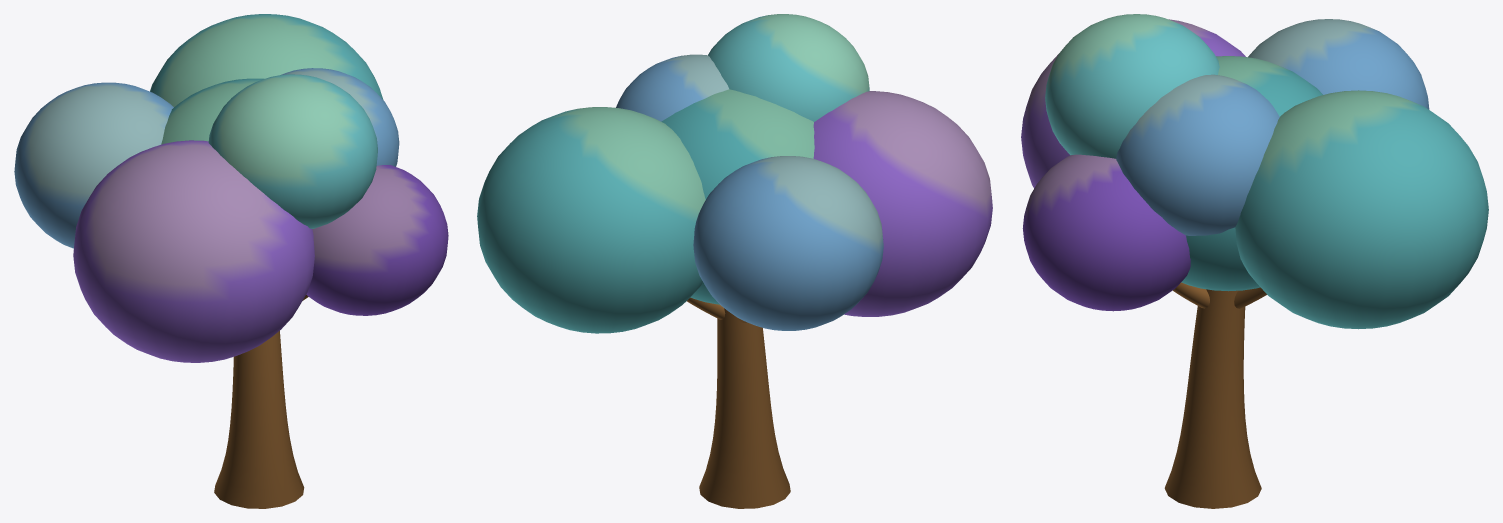
The model's file is tree-108.obj.
3 renders of one model, left to right at view 1: azimuth 30°, elevation 25°; view 2: azimuth 150°, elevation 25°; view 3: azimuth 270°, elevation 25°, orthographic. The views are drawn at different scales.
Visible parts, largest first — view 1: tree; view 2: tree; view 3: tree.
Boxes of the visible parts, x1=… form: tree: x1=14, y1=14, x2=448, y2=508; tree: x1=477, y1=14, x2=992, y2=508; tree: x1=1021, y1=14, x2=1488, y2=508.
Bounding box in the file's own units: 320 × 350 × 320.
